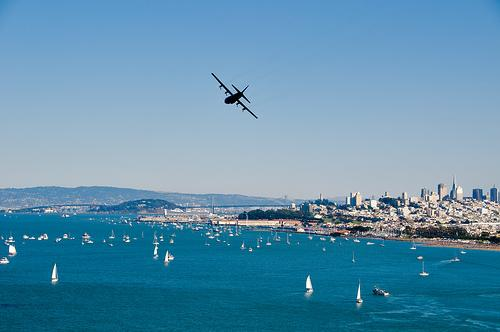airplane: (209, 71, 262, 121)
